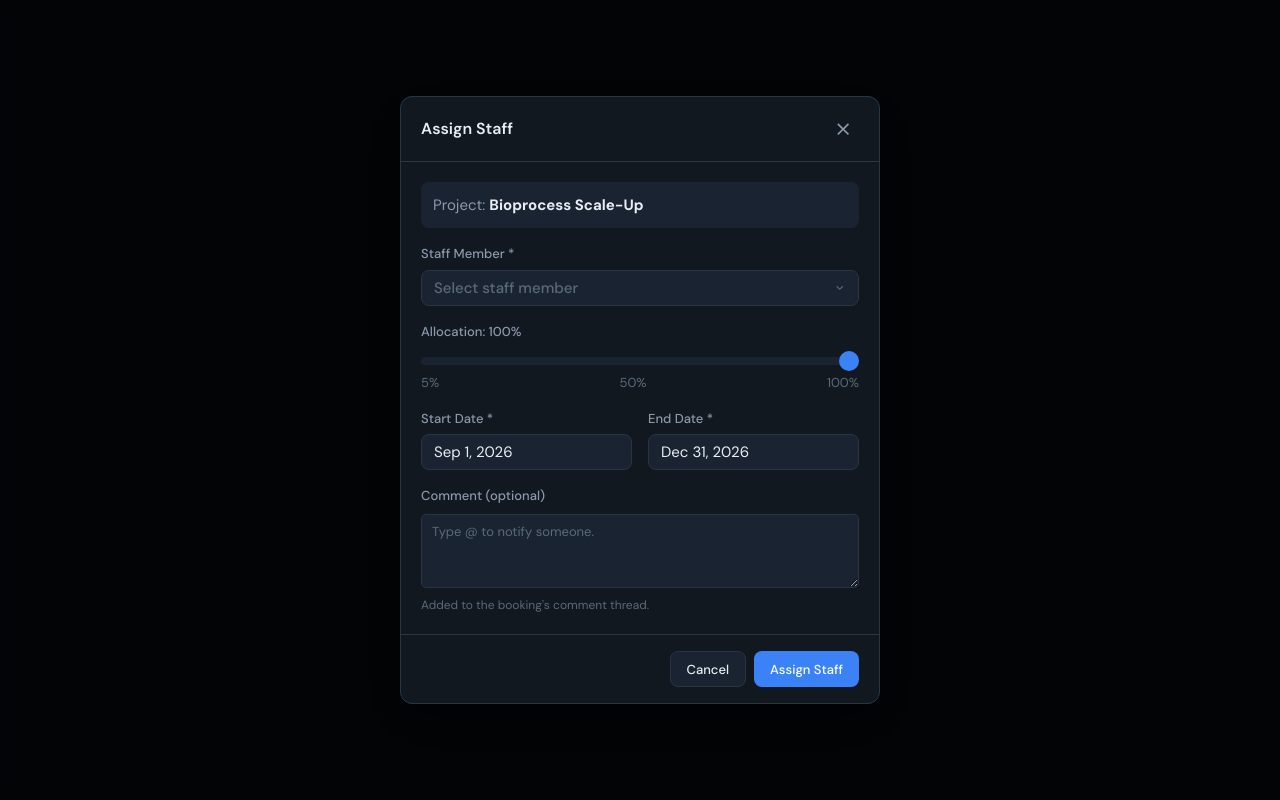
Test: AssignmentModal picker › lets the project manager pick anyone on the site
The width and height of the screenshot is (1280, 800).
Step 1. Click the button "Select staff member" → (506, 288), box [421, 270, 859, 306]
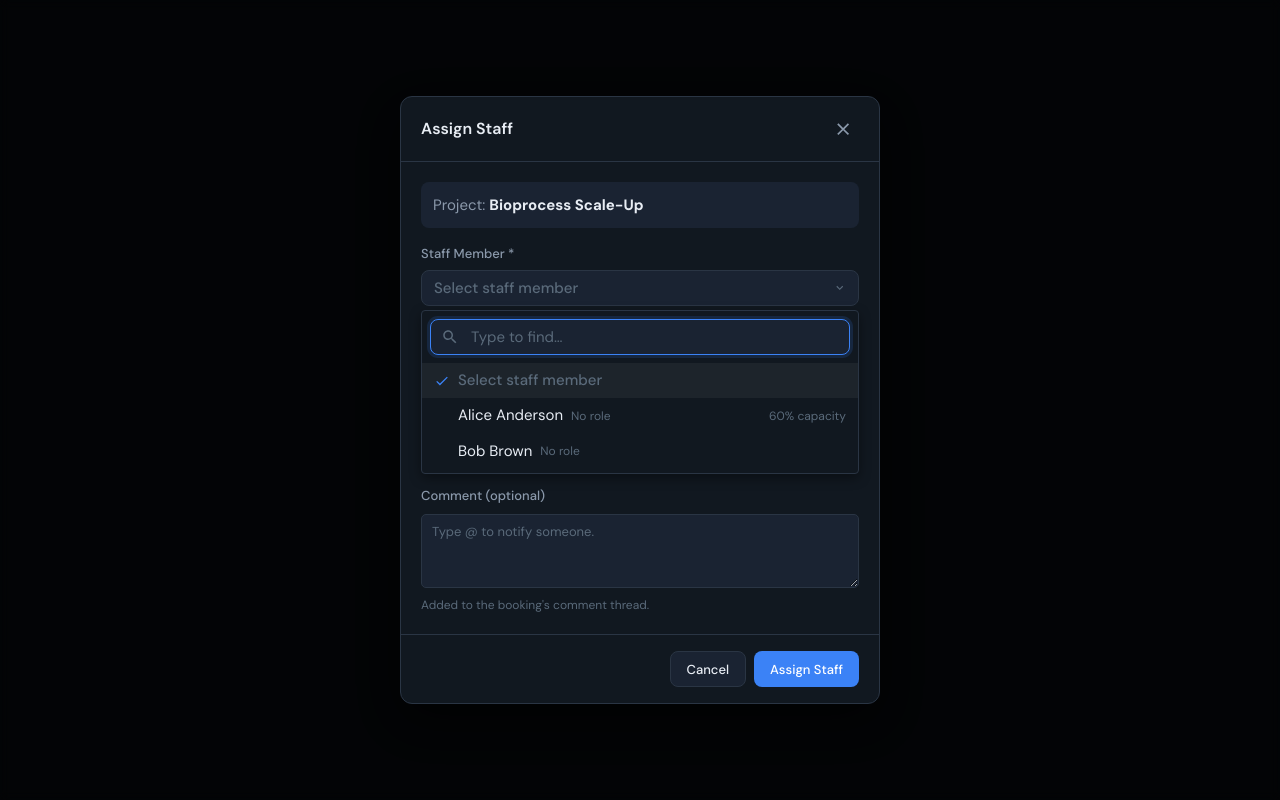
Check: the button "Assign Staff" is shown, box [754, 651, 859, 687]
Check: the option "Alice Anderson No role 60% capacity" is shown, box [458, 405, 846, 425]
Check: the option "Bob Brown No role" is shown, box [458, 441, 580, 461]
